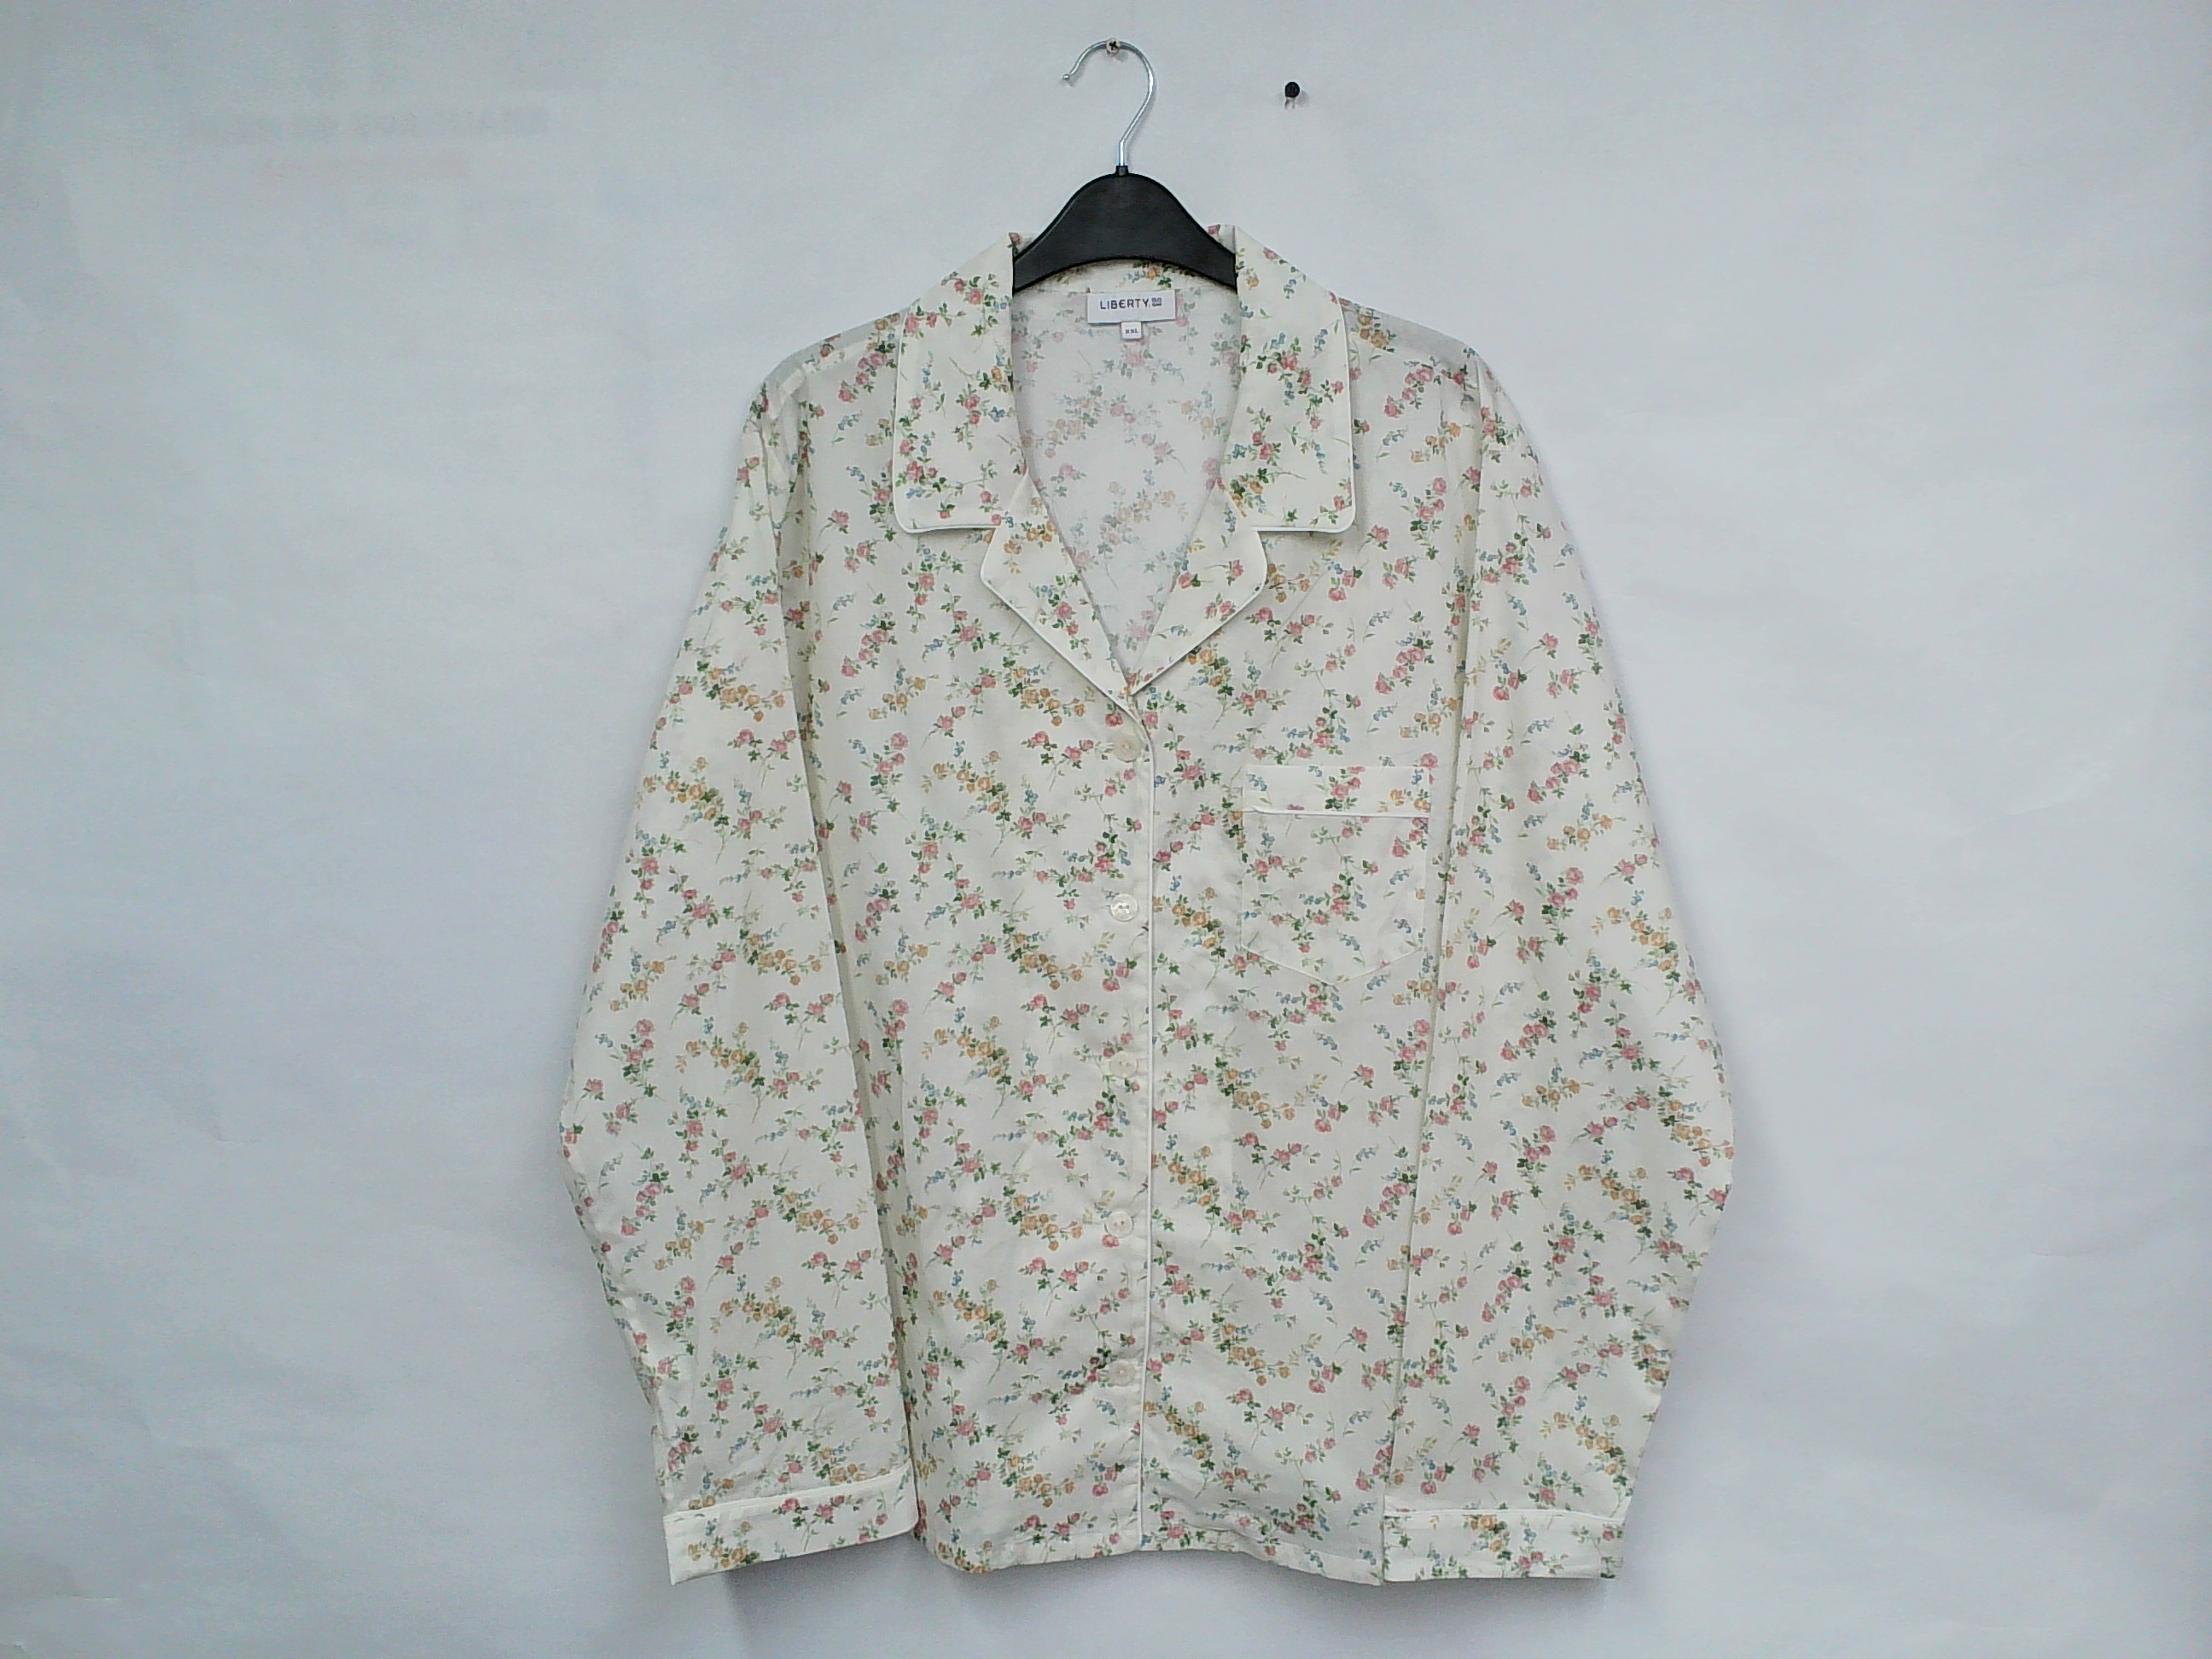seam: (1230, 793, 1291, 829)
